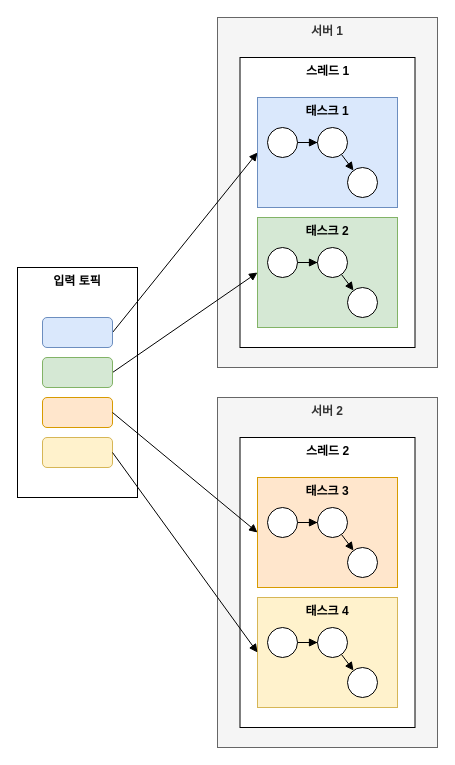
This 455x765 diagram has some shape labels left out. Each missing label, with the centre of its shape:
파티션 1: point 77,332
파티션 2: point 77,372
파티션 3: point 77,412
파티션 4: point 77,452
